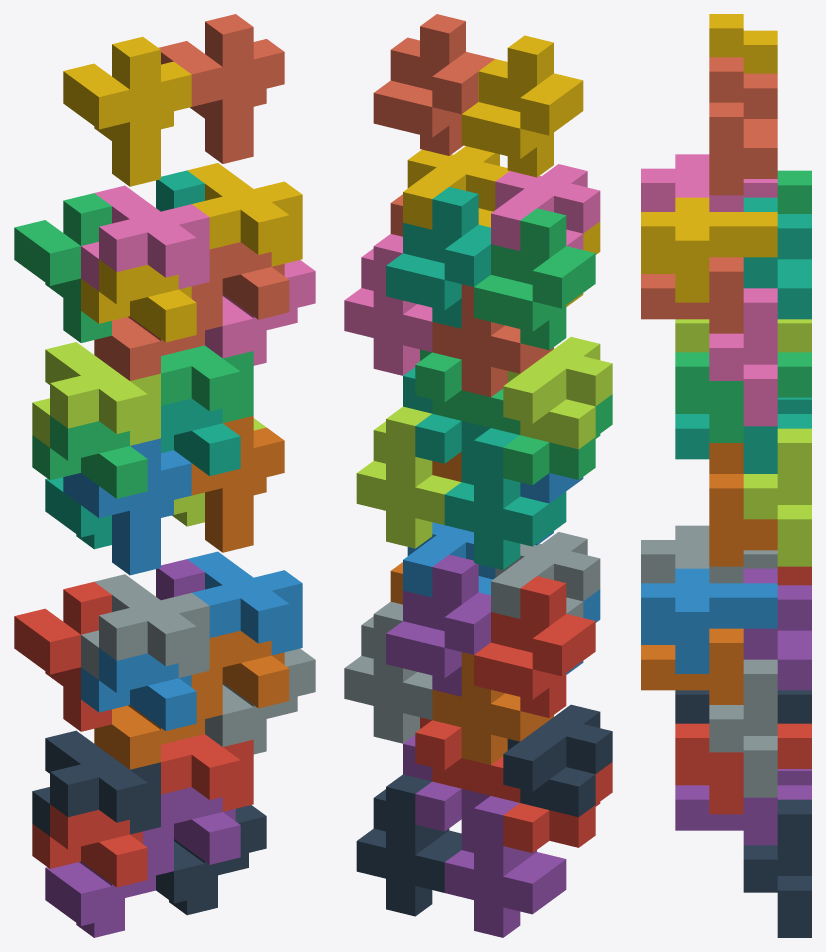
File: tiling.obj
3 renders of one model, left to right at view 1: azimuth 30°, elevation 25°; view 2: azimuth 150°, elevation 25°; view 3: azimuth 270°, elevation 25°, orthographic. The views are drawn at different scales.
Visible parts, largest first — view 1: copy_4_domain_4, copy_4_domain_8, copy_2_domain_4, copy_2_domain_2, copy_2_domain_1, copy_2_domain_3, copy_4_domain_2, copy_2_domain_8, copy_2_domain_6, copy_4_domain_1, copy_4_domain_3, copy_4_domain_6 (+20 smaller); view 2: copy_4_domain_4, copy_4_domain_1, copy_4_domain_3, copy_4_domain_8, copy_3_domain_1, copy_4_domain_7, copy_4_domain_5, copy_3_domain_3, copy_2_domain_1, copy_2_domain_3, copy_3_domain_5, copy_3_domain_7 (+18 smaller); view 3: copy_4_domain_8, copy_2_domain_6, copy_2_domain_8, copy_3_domain_5, copy_3_domain_6, copy_3_domain_8, copy_3_domain_7, copy_4_domain_6, copy_2_domain_5, copy_2_domain_7, copy_4_domain_5, copy_4_domain_7 (+17 smaller).
Part boxes in pixels (x1,y1,x2,y2): copy_4_domain_4: [63, 36, 191, 186]; copy_4_domain_8: [158, 14, 284, 163]; copy_2_domain_4: [81, 185, 209, 291]; copy_2_domain_2: [81, 574, 209, 679]; copy_2_domain_1: [32, 730, 160, 835]; copy_2_domain_3: [32, 342, 160, 447]; copy_4_domain_2: [63, 438, 191, 575]; copy_2_domain_8: [187, 163, 302, 266]; copy_2_domain_6: [187, 551, 302, 655]; copy_4_domain_1: [14, 582, 111, 731]; copy_4_domain_3: [14, 193, 111, 342]; copy_4_domain_6: [191, 416, 284, 552]; copy_4_domain_4: [461, 35, 583, 177]; copy_4_domain_1: [474, 576, 595, 717]; copy_4_domain_3: [474, 208, 595, 350]; copy_4_domain_8: [373, 14, 494, 155]; copy_3_domain_1: [444, 796, 566, 937]; copy_4_domain_7: [386, 187, 490, 328]; copy_4_domain_5: [386, 554, 490, 696]; copy_3_domain_3: [444, 428, 566, 569]; copy_2_domain_1: [503, 704, 612, 817]; copy_2_domain_3: [503, 337, 612, 449]; copy_3_domain_5: [356, 774, 461, 916]; copy_3_domain_7: [356, 406, 460, 548]; copy_4_domain_8: [709, 57, 777, 195]; copy_2_domain_6: [641, 568, 777, 673]; copy_2_domain_8: [641, 197, 777, 302]; copy_3_domain_5: [743, 799, 811, 937]; copy_3_domain_6: [709, 659, 777, 797]; copy_3_domain_8: [709, 288, 777, 426]; copy_3_domain_7: [743, 428, 811, 566]; copy_4_domain_6: [709, 443, 777, 566]; copy_2_domain_5: [675, 723, 811, 814]; copy_2_domain_7: [675, 352, 811, 442]; copy_4_domain_5: [743, 568, 811, 690]; copy_4_domain_7: [743, 197, 811, 319].
Size of the model in its own units: 8 by 28 by 5.
